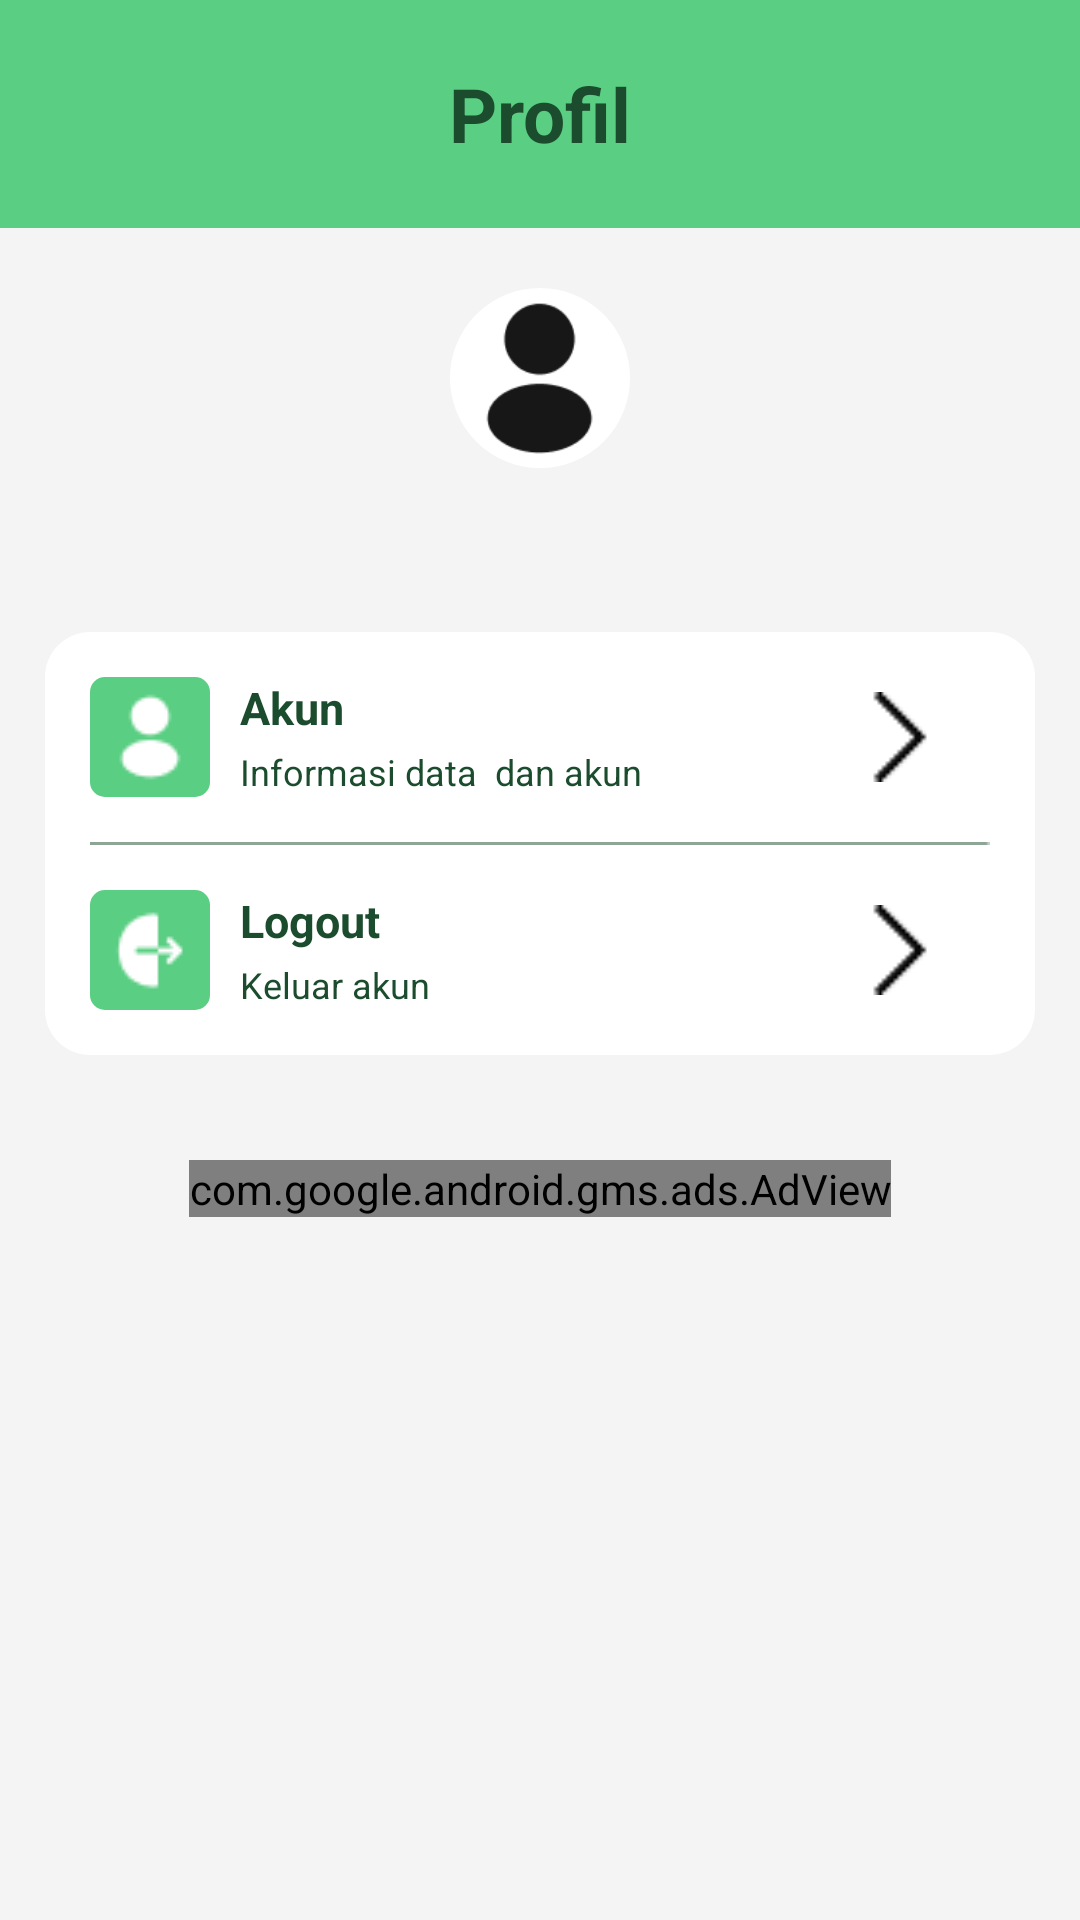

Icon click points for this 1080 × 1920 phone screenshot, format point (x, y):
arrow: point (900, 737), point (900, 950)
